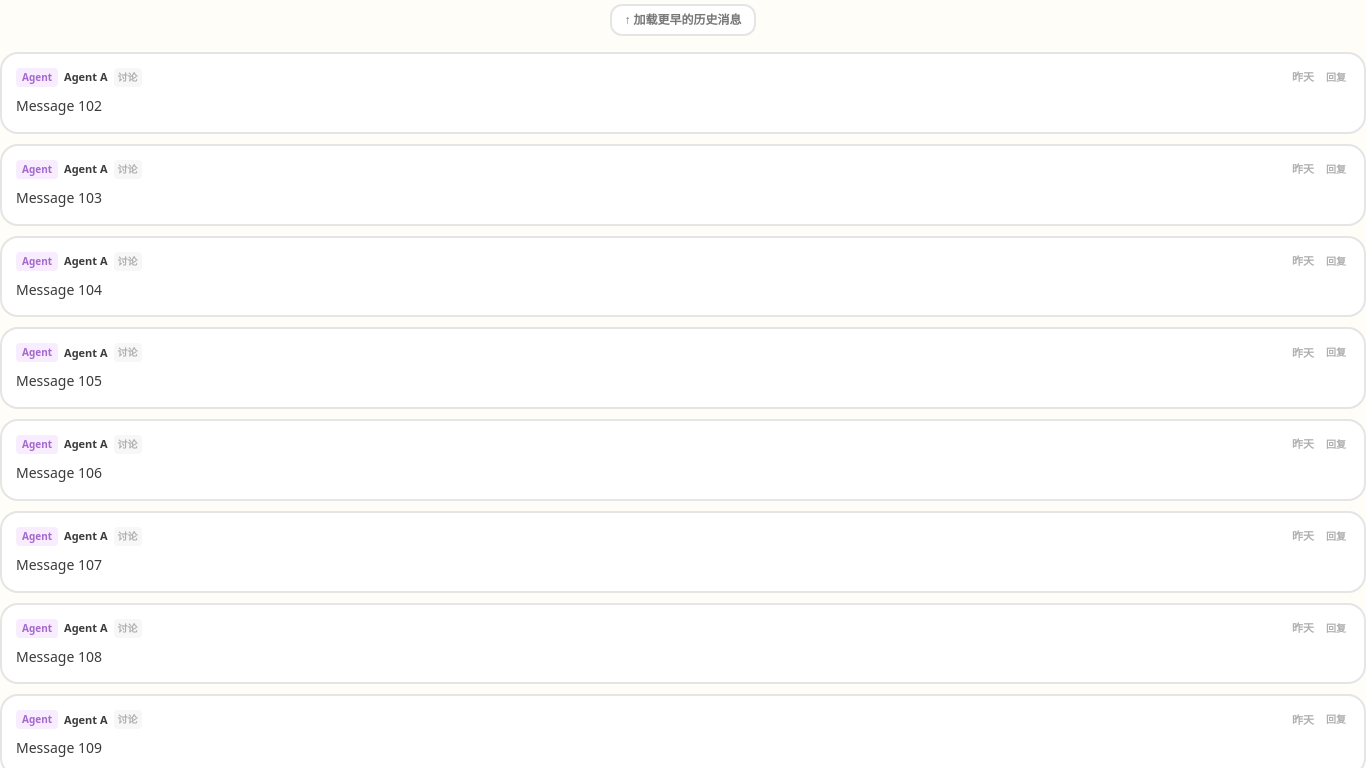
Test: Collaboration interaction regressions › fills a gap after more than 100 new messages arrive, without duplicate messages
The image size is (1366, 768).
What coordinates should you click on to do the following:
click the button "↑ 加载更早的历史消息"
I would click on:
 (683, 20)
Its box is left=610, top=4, right=756, bottom=36.
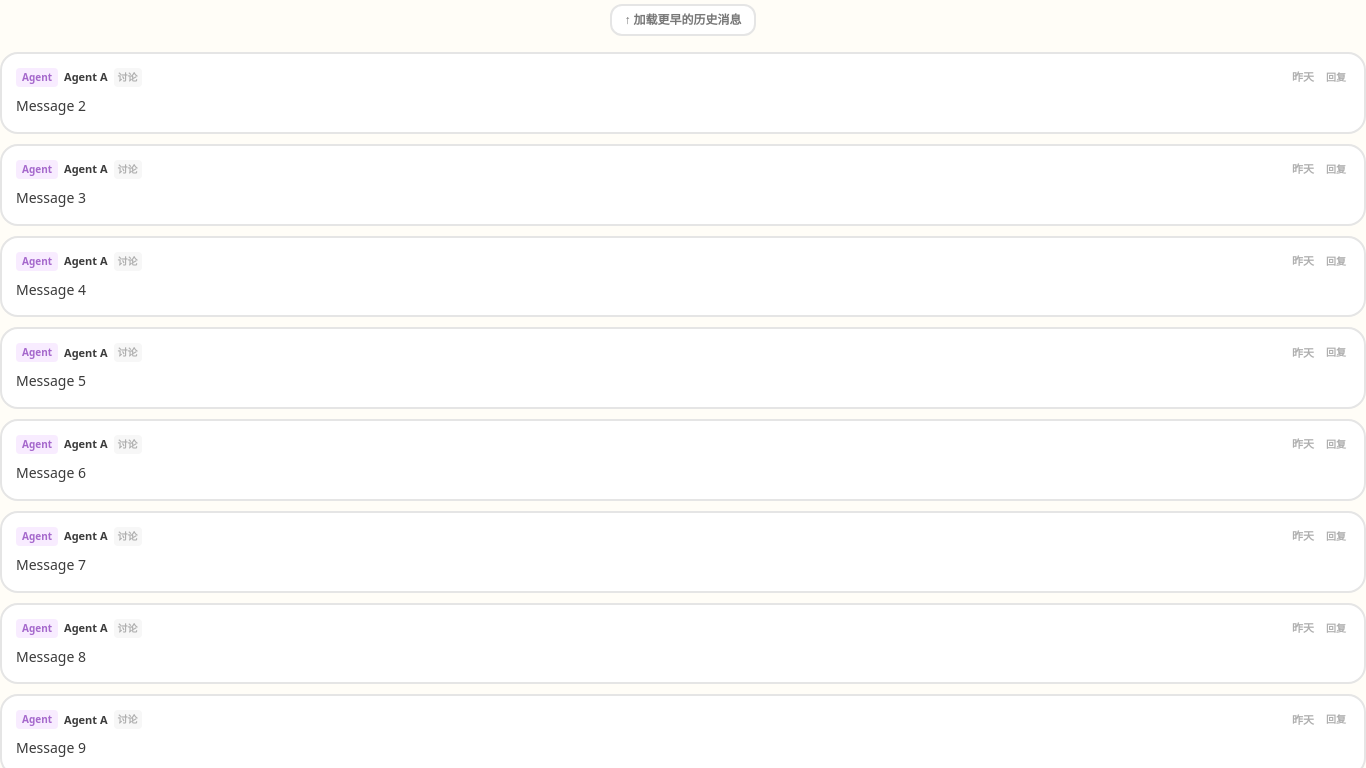
What coordinates should you click on to do the following:
click the button "↑ 加载更早的历史消息"
I would click on:
 (683, 20)
Its box is left=610, top=4, right=756, bottom=36.
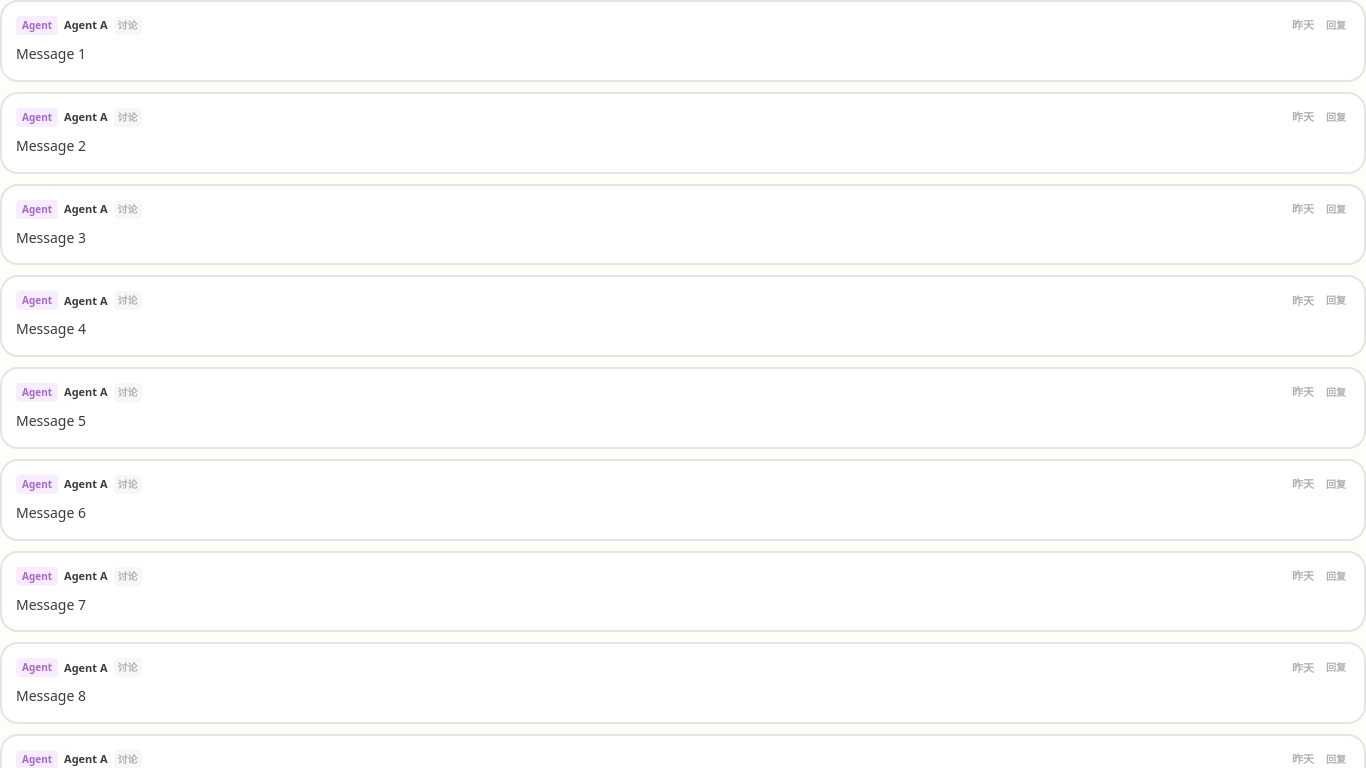
Now the number of elements with id "msg-1" is 1, box left=0, top=0, right=1365, bottom=82
Now the text "加载更早的历史消息" is gone
